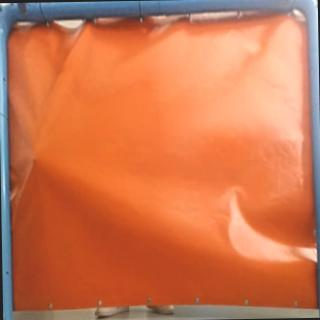Hit-hRxx: (26, 149, 42, 167)
